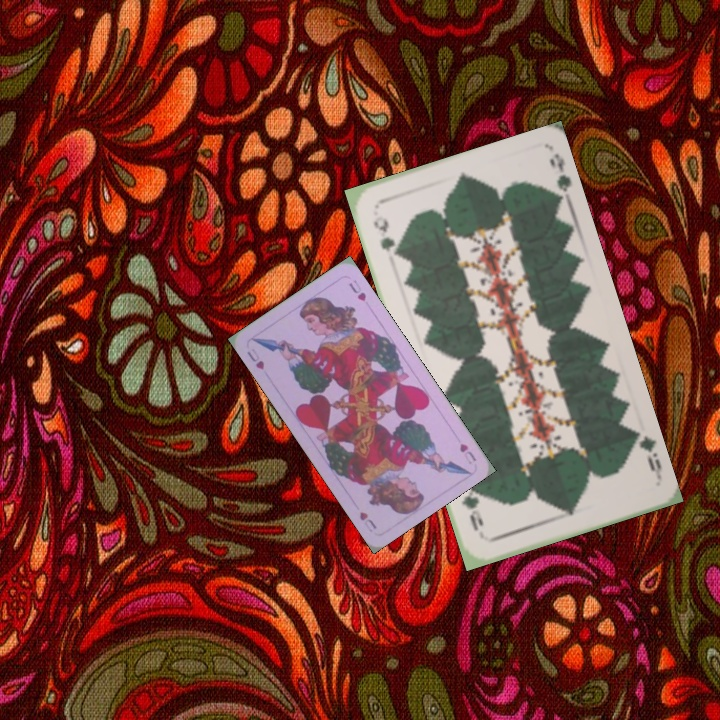G9: (628, 427, 664, 481), (369, 212, 397, 255)
HU: (243, 344, 267, 372), (455, 439, 479, 464)
